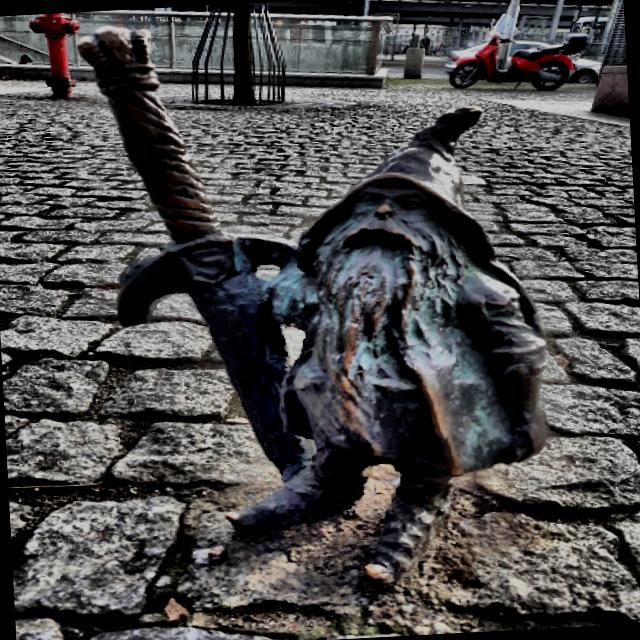Giermek_Grun-Waldek: (79, 30, 551, 588)
